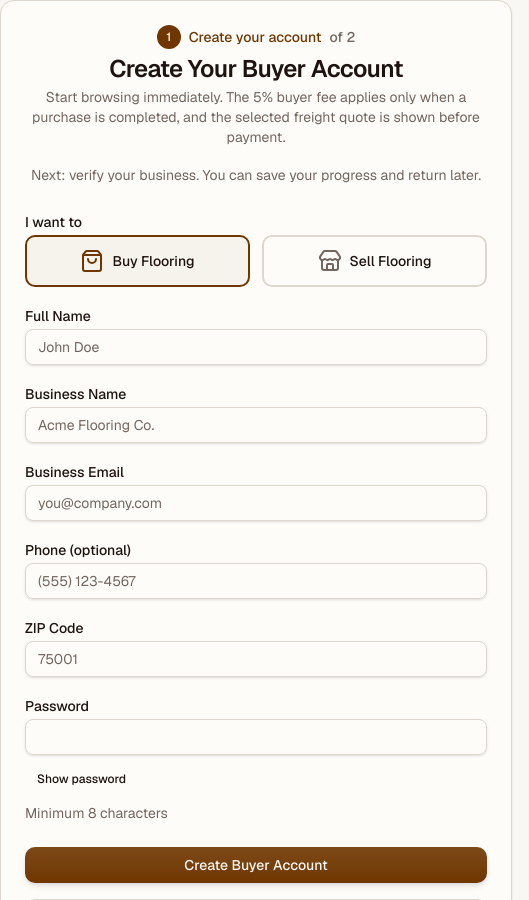
Test: RegisterForm › disables submit button while loading
Type "Jane Doe" into the field labelled "Full Name" at (256, 347), box left=25, top=329, right=487, bottom=365
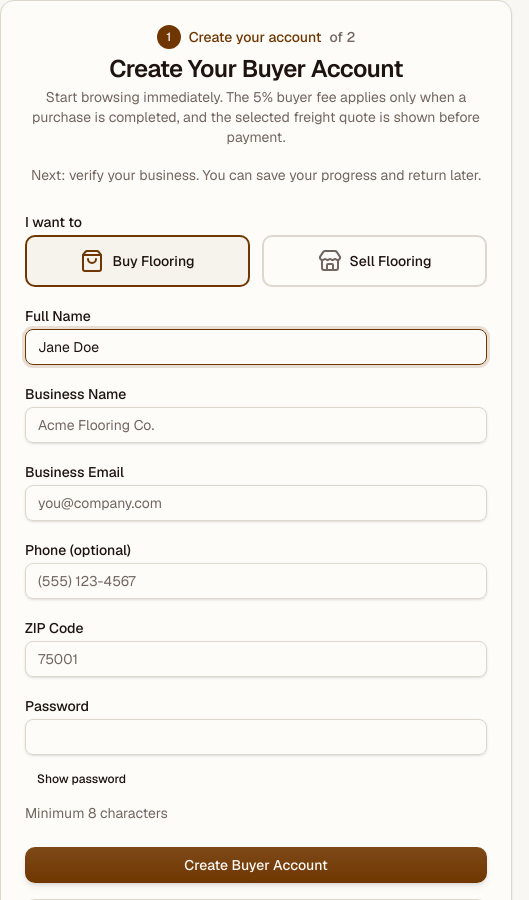
Type "Doe Lumber Co" into the field labelled "Business Name" at (256, 425), box left=25, top=407, right=487, bottom=443
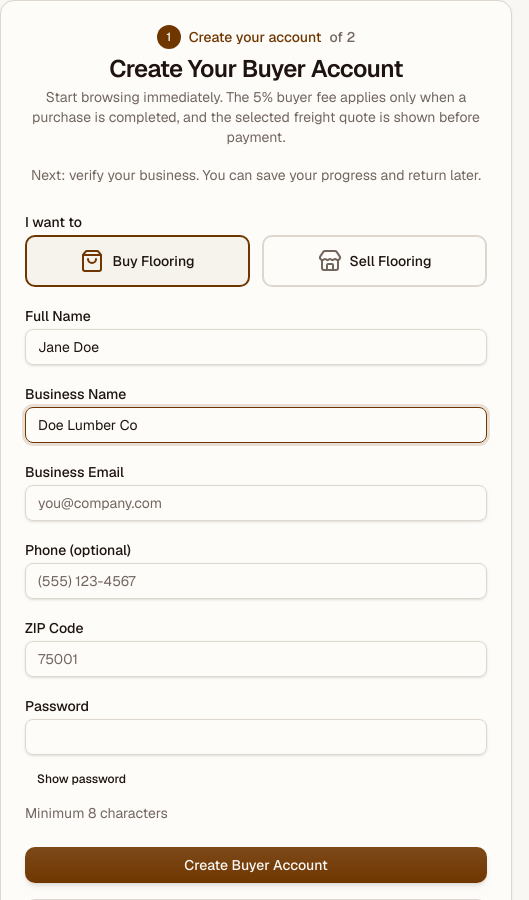
Type "jane@example.com" into the field labelled "Business Email" at (256, 503), box left=25, top=485, right=487, bottom=521
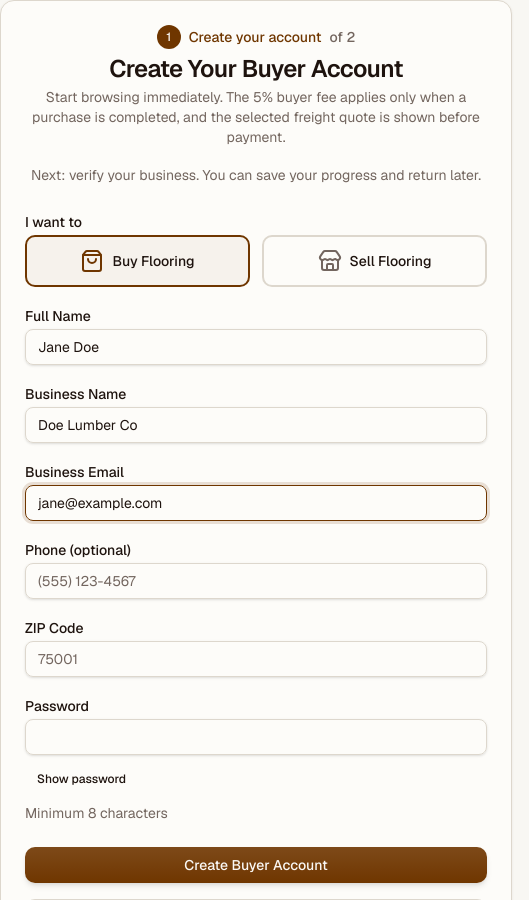
Type "97201" into the field labelled "ZIP Code" at (256, 659), box left=25, top=641, right=487, bottom=677
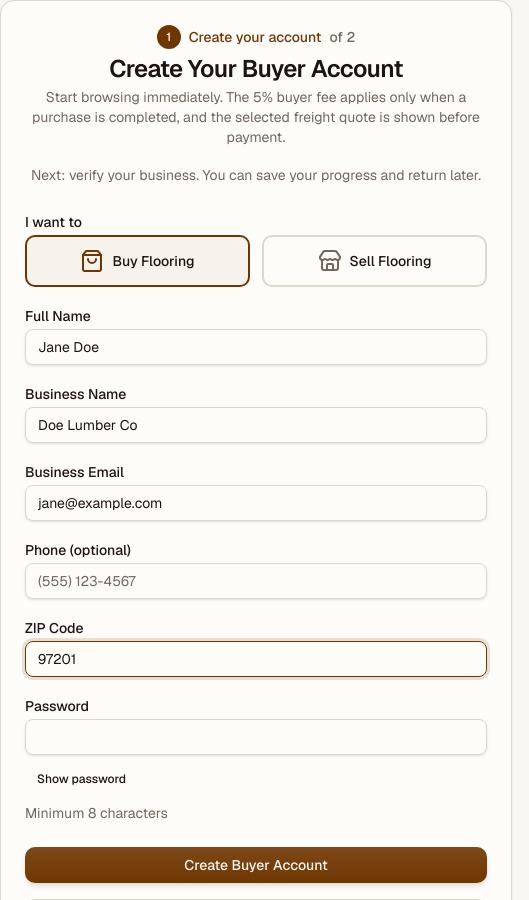
Type "secureP@ss1" into the password field labelled "Password" at (256, 737), box left=25, top=719, right=487, bottom=755
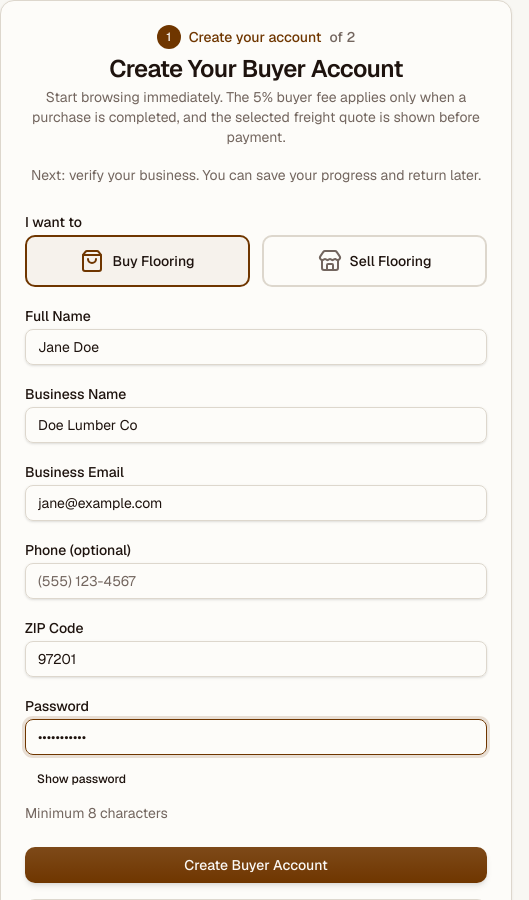
Click the button "Create Buyer Account" at (256, 865), box left=25, top=847, right=487, bottom=883
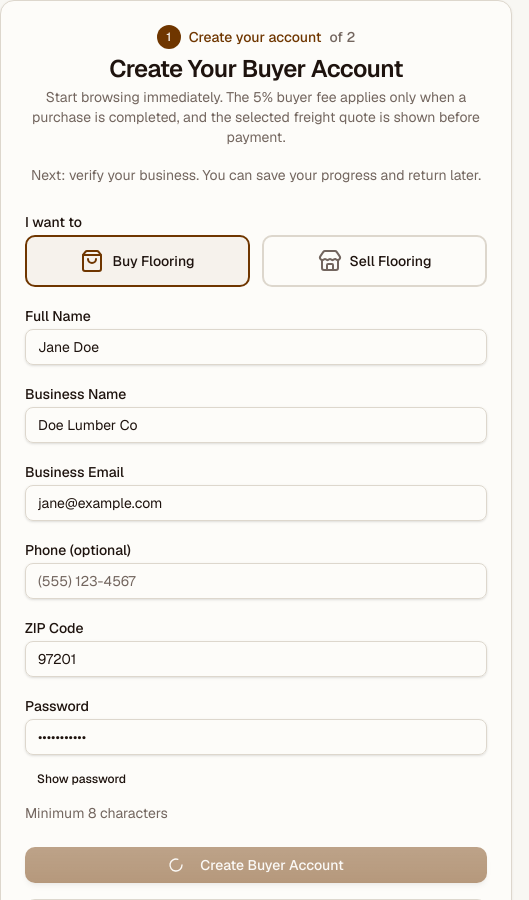
Expected: the button "Create Buyer Account" is disabled, left=25, top=847, right=487, bottom=883
